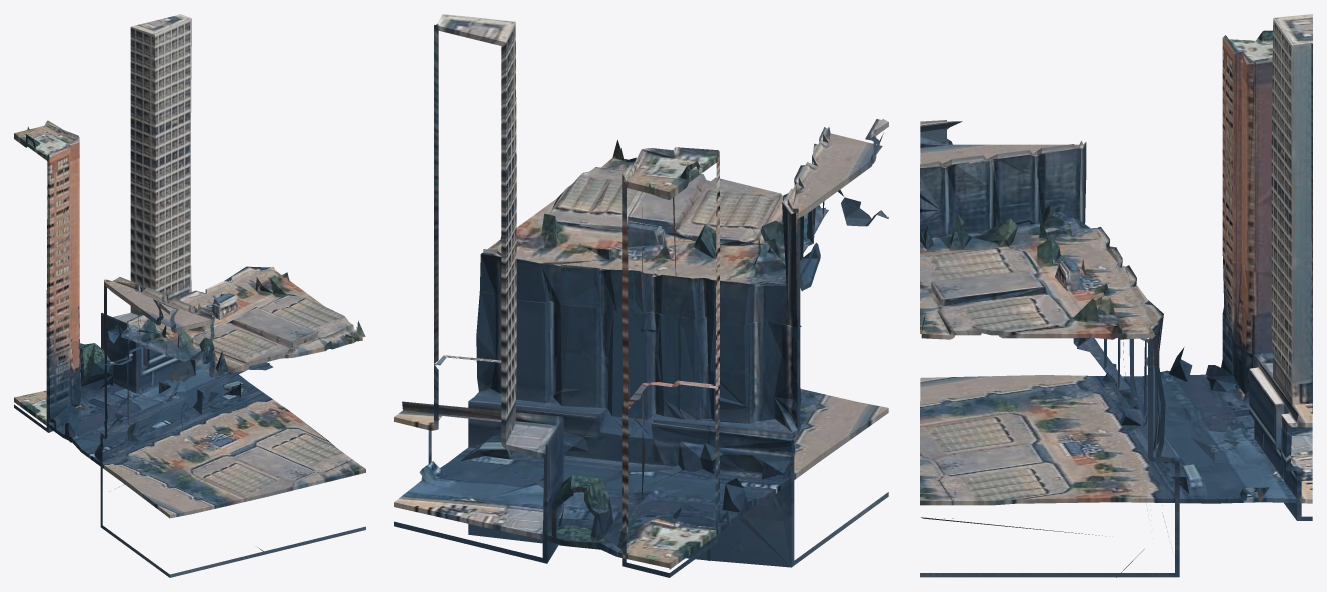
File: chunk_-5_-2.glb
3 views of the same model, side by side, from view 1: azimuth 30°, elevation 25°; view 2: azimuth 150°, elevation 25°; view 3: azimuth 270°, elevation 25° (orthographic). The views are drawn at different scales.
Parts seen in each view (by area): view 1: hero-chunk; view 2: hero-chunk; view 3: hero-chunk.
Part boxes in pixels (x1,y1,x2,y2): hero-chunk: [14, 14, 365, 577]; hero-chunk: [394, 14, 888, 577]; hero-chunk: [920, 14, 1312, 577].
Bounding box in the file's own units: 56.35 × 111 × 76.32.
Materials: 3 (3 with a texture image).
